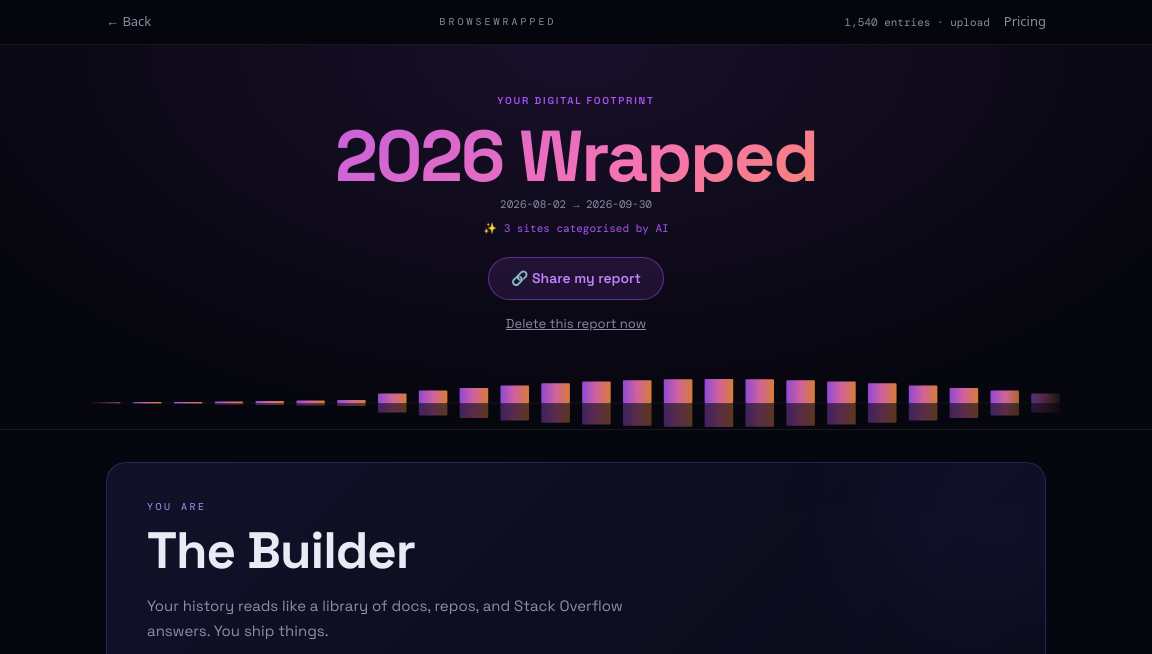
Test: AnalysisPage "Delete this report now" › explains a rejected token and keeps the report open
The image size is (1152, 654).
Expected: the heading "The Builder" is shown, [147, 518, 415, 583]
Click the button "Delete this report now". click: (576, 323)
box: [504, 310, 648, 337]
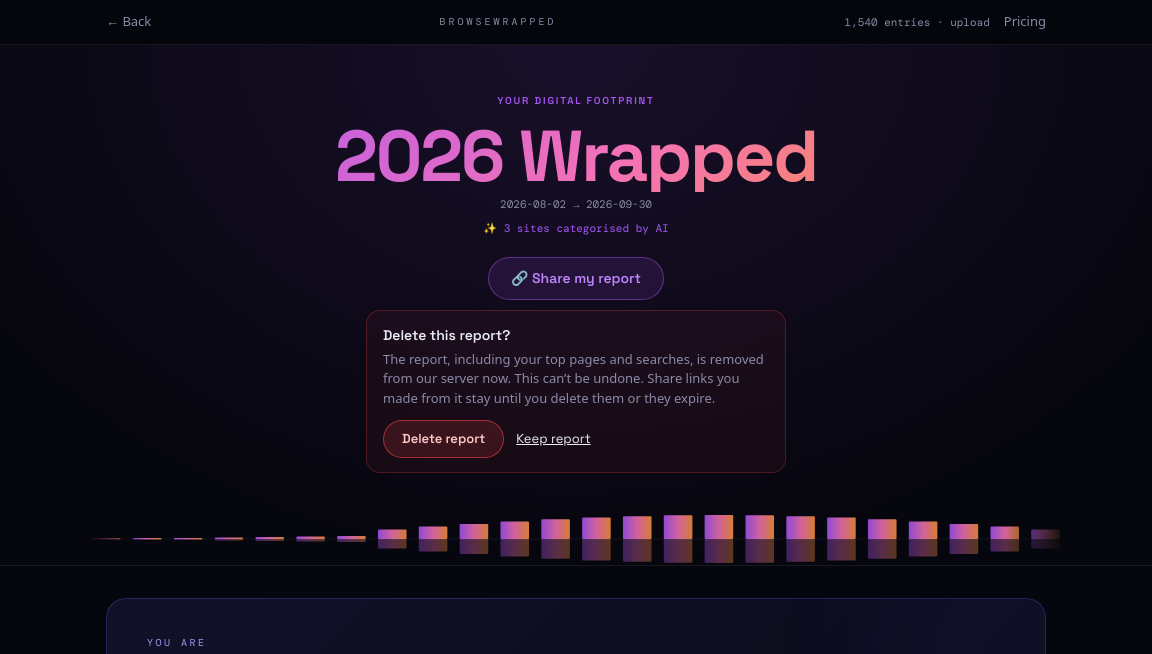
Click the button "Delete report". click: (444, 439)
box: [383, 420, 504, 458]
(page scrolled)
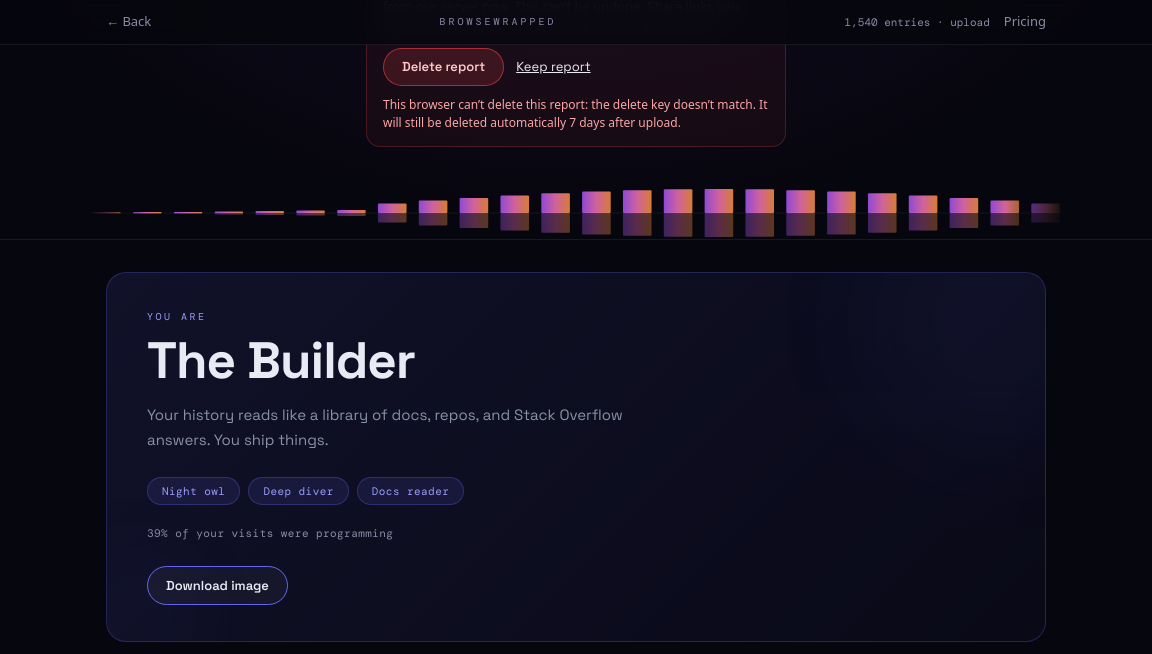
Expected: the heading "The Builder" is shown, [147, 328, 415, 392]
Expected: the message shows "the delete key doesn’t match", [383, 96, 768, 130]
